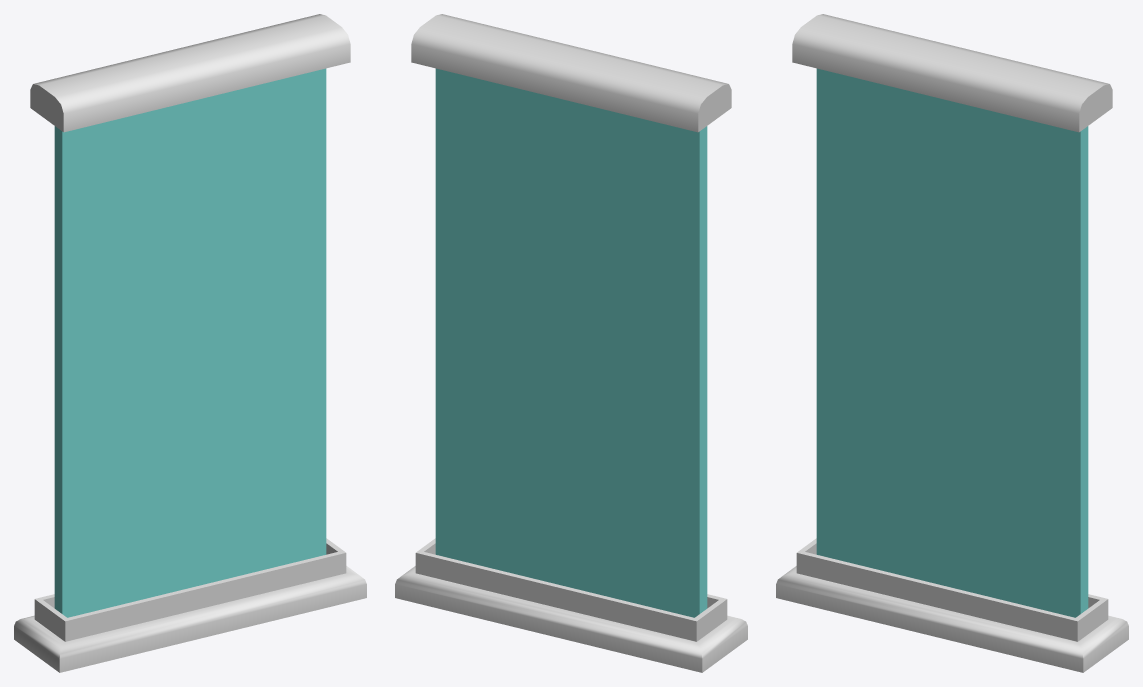
Rendered from Devider.fbx.
The picture shows the model from 3 angles, left to right: view 1: azimuth 30°, elevation 25°; view 2: azimuth 150°, elevation 25°; view 3: azimuth 330°, elevation 25°; orthographic projection.
Visible parts, largest first — view 1: Devider; view 2: Devider; view 3: Devider.
Part boxes in pixels (<box>): Devider: <box>14,14,366,672</box>; Devider: <box>395,14,747,672</box>; Devider: <box>776,14,1128,672</box>.
Size of the model in its own units: 1.16 by 2.03 by 0.2988.
